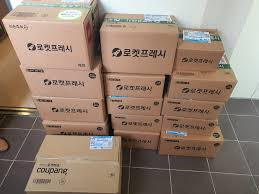undamaged: (0, 0, 239, 193)
